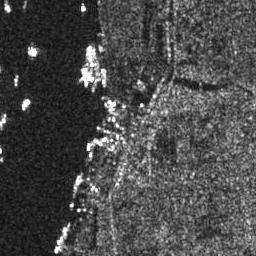ship: (80, 68, 91, 87), (20, 95, 30, 111), (100, 68, 108, 87), (92, 136, 104, 147), (4, 2, 12, 13), (86, 142, 91, 151)
